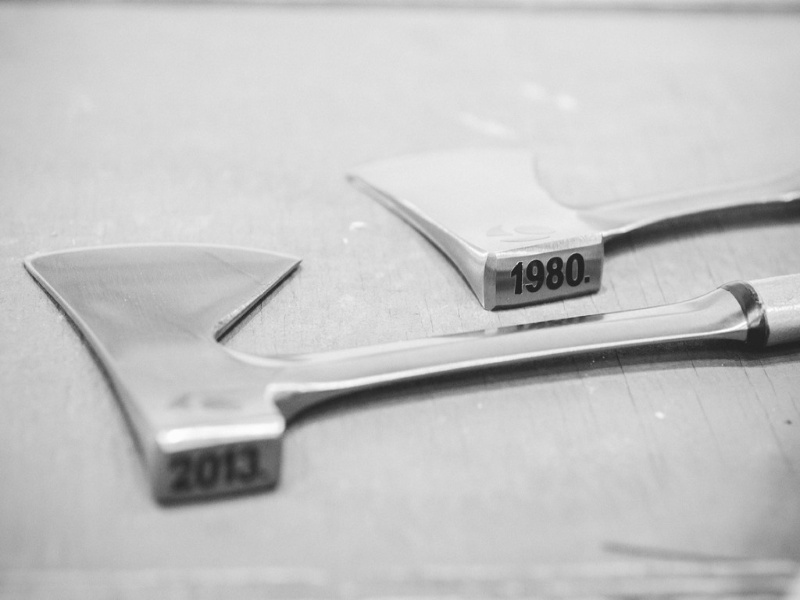axe: (21, 232, 386, 511), (341, 134, 800, 313)
